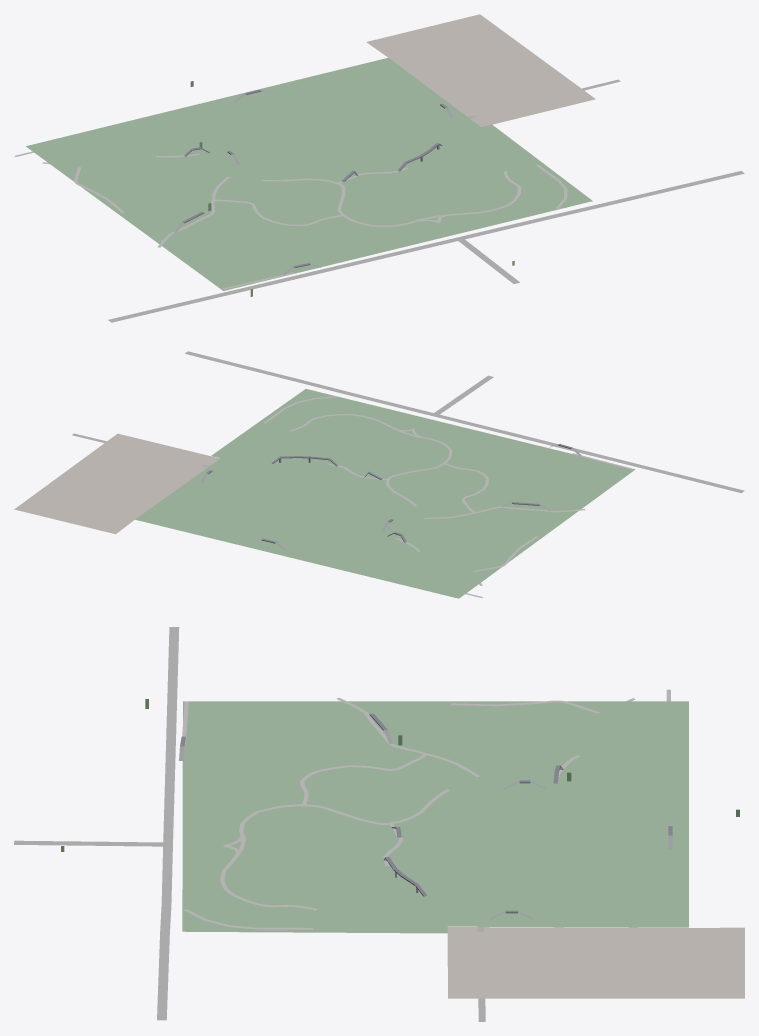
The picture shows the model from 3 angles, top to bottom: view 1: azimuth 30°, elevation 25°; view 2: azimuth 150°, elevation 25°; view 3: azimuth 270°, elevation 25°; orthographic projection. The views are drawn at different scales.
Size of the model in its own units: 662 by 9.62 by 520.
